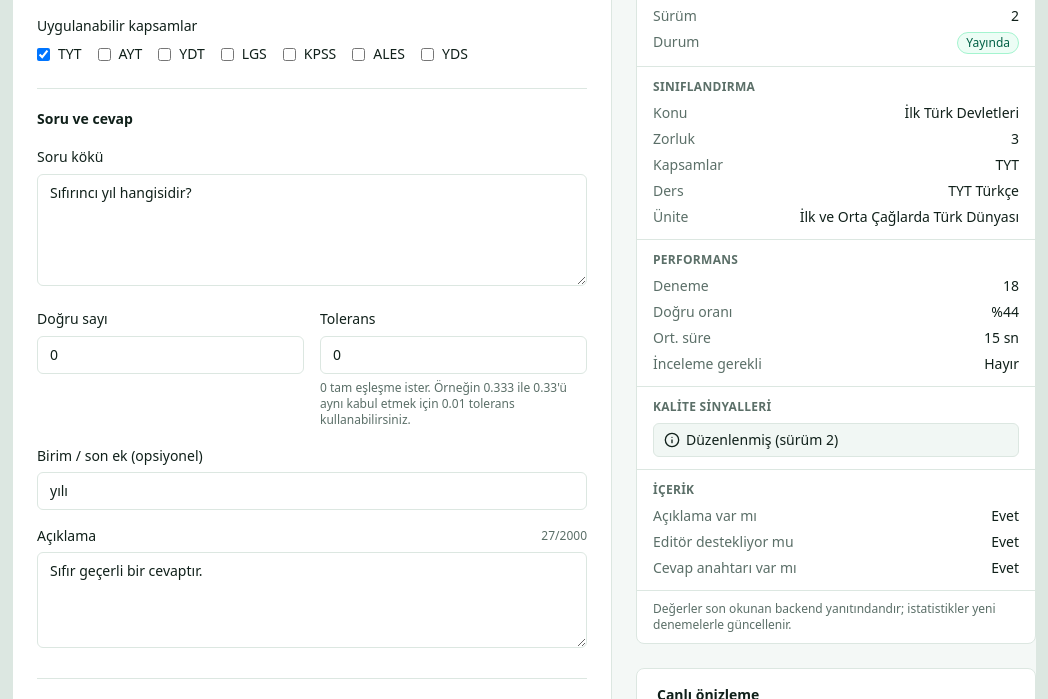
Scenario: numeric input edit editor › saves a changed answer and shows the version and warning
(page scrolled)
Replace the text in the number field labelled "Doğru sayı" with "0.33" at (170, 354), box [37,336,304,374]
(page scrolled)
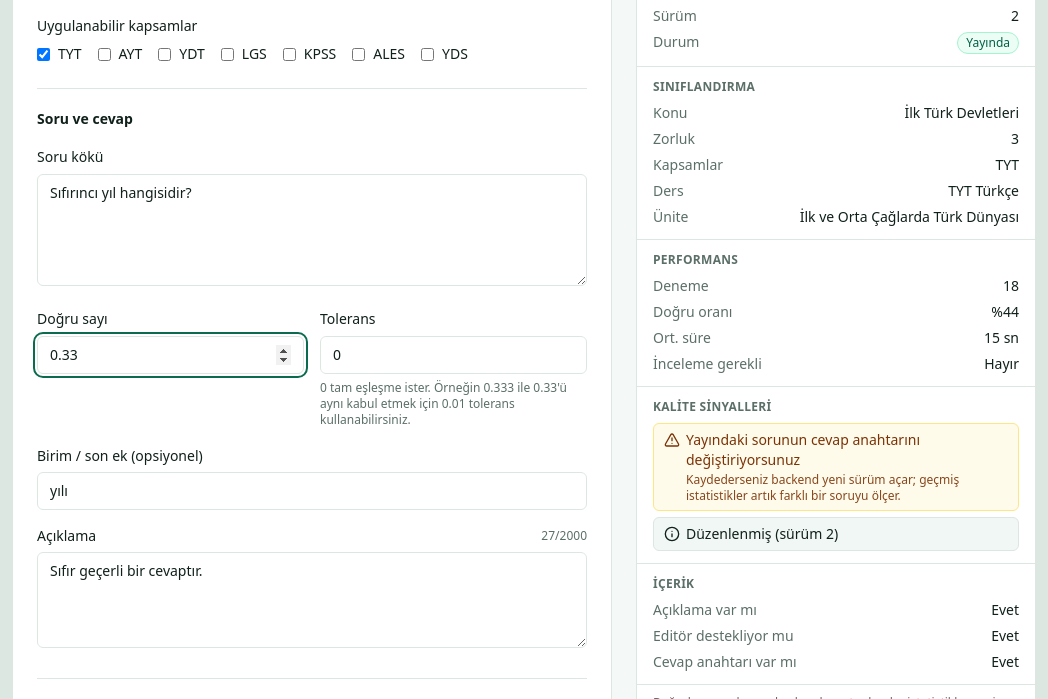
Replace the text in the number field labelled "Tolerans" with "0.01" at (454, 354), box [320,336,587,374]
(page scrolled)
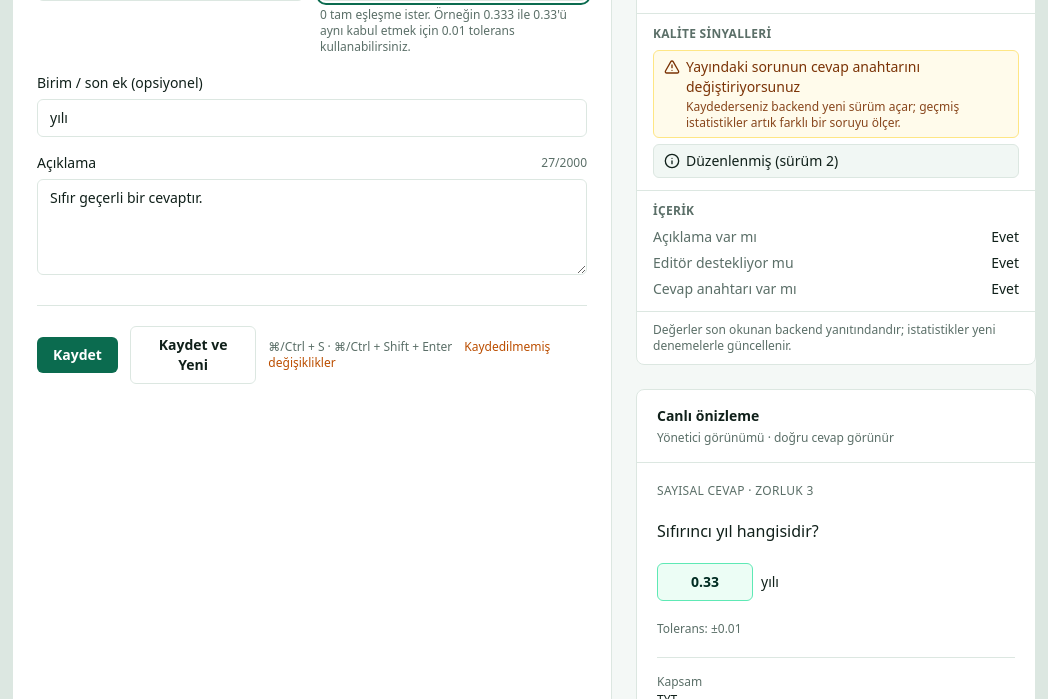
Click the button "Kaydet" at (77, 354), box [37,336,118,372]
(page scrolled)
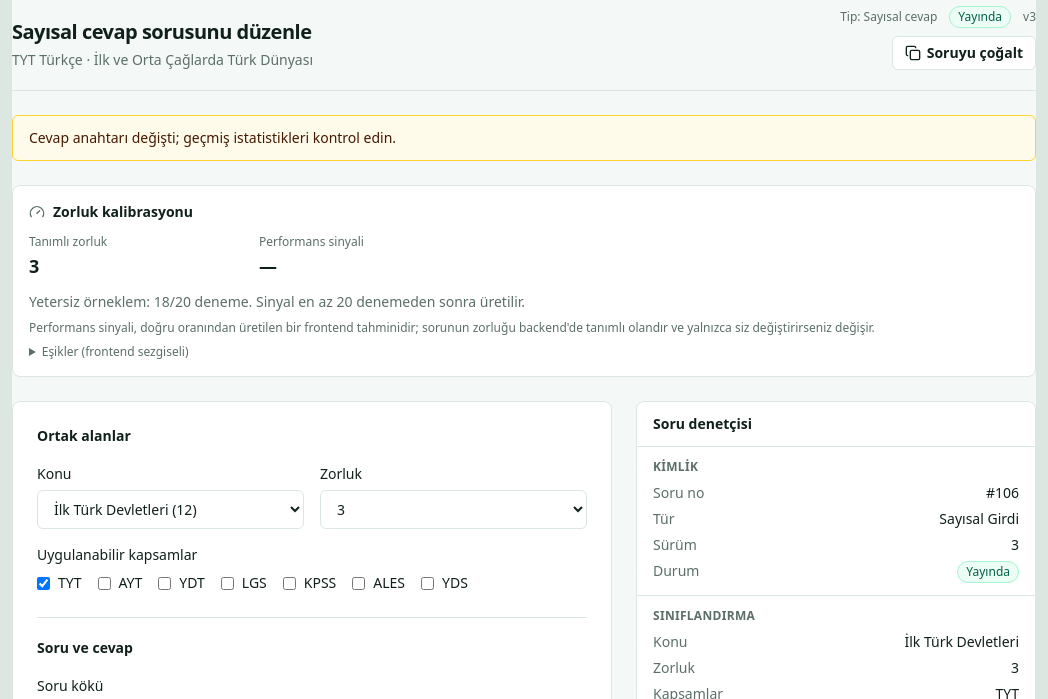
Result: the text "v3" is shown at [1023,8,1036,24]
Result: the text "Cevap anahtarı değişti; geçmiş istatistikleri kontrol edin." is shown at [12,114,1036,160]
